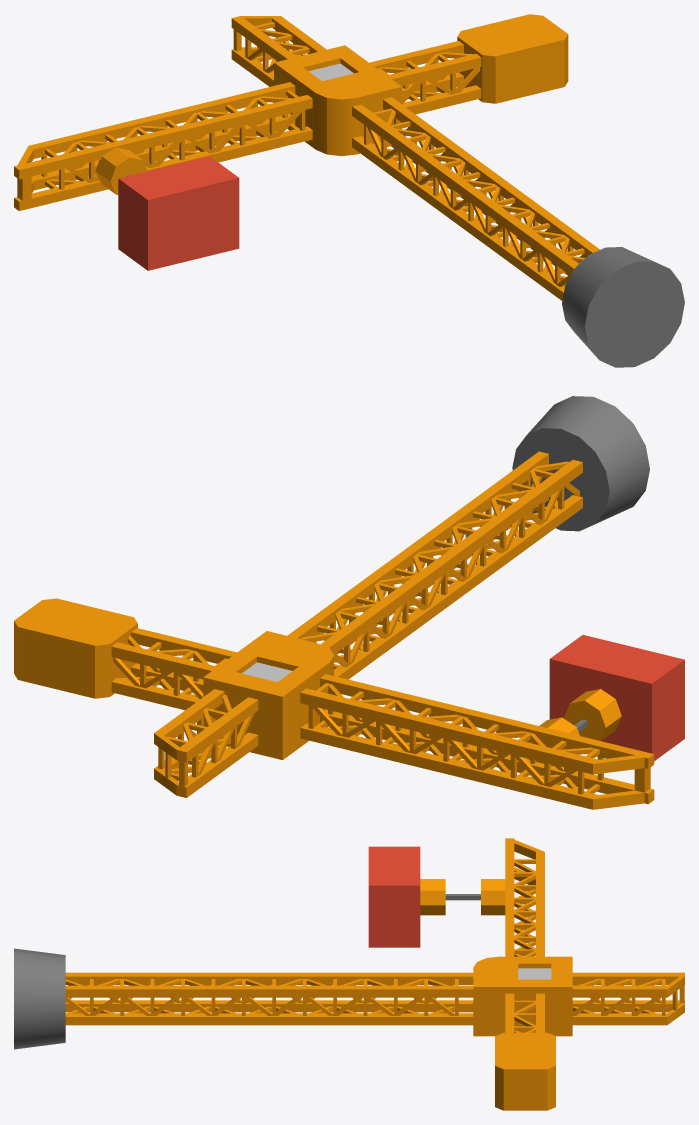
File: P_Crane01.fbx
3 views of the same model, one above another, from view 1: azimuth 30°, elevation 25°; view 2: azimuth 150°, elevation 25°; view 3: azimuth 270°, elevation 25° (orthographic). The views are drawn at different scales.
Parts seen in each view (by area): view 1: crane01; view 2: crane01; view 3: crane01.
Boxes of the visible parts, <box> form: crane01: <box>14,14,684,367</box>; crane01: <box>14,396,684,809</box>; crane01: <box>14,838,684,1110</box>.
Bounding box in the file's own units: 1820 × 333 × 2207.
